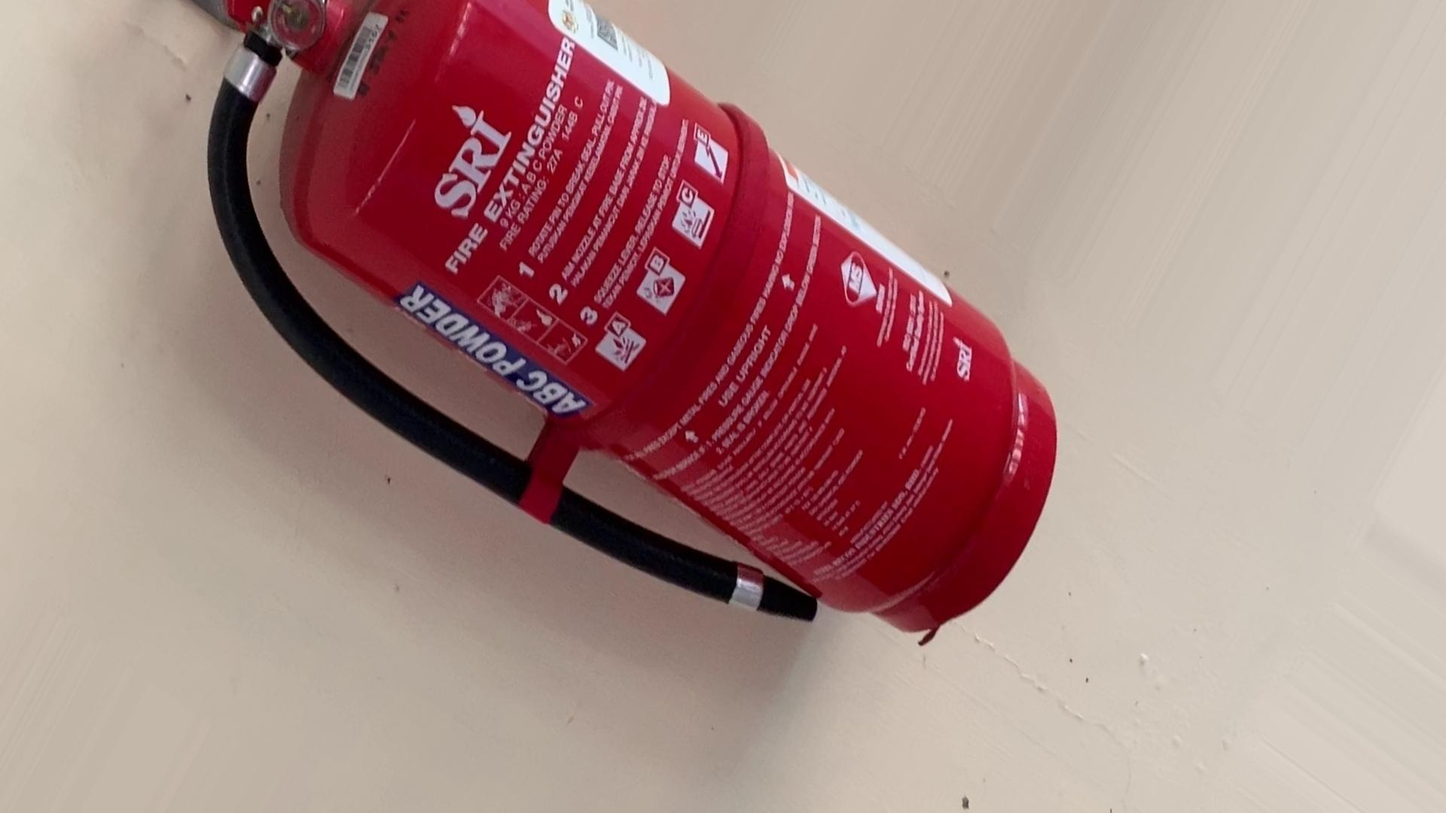fire_extinguisher: (190, 0, 1059, 645)
